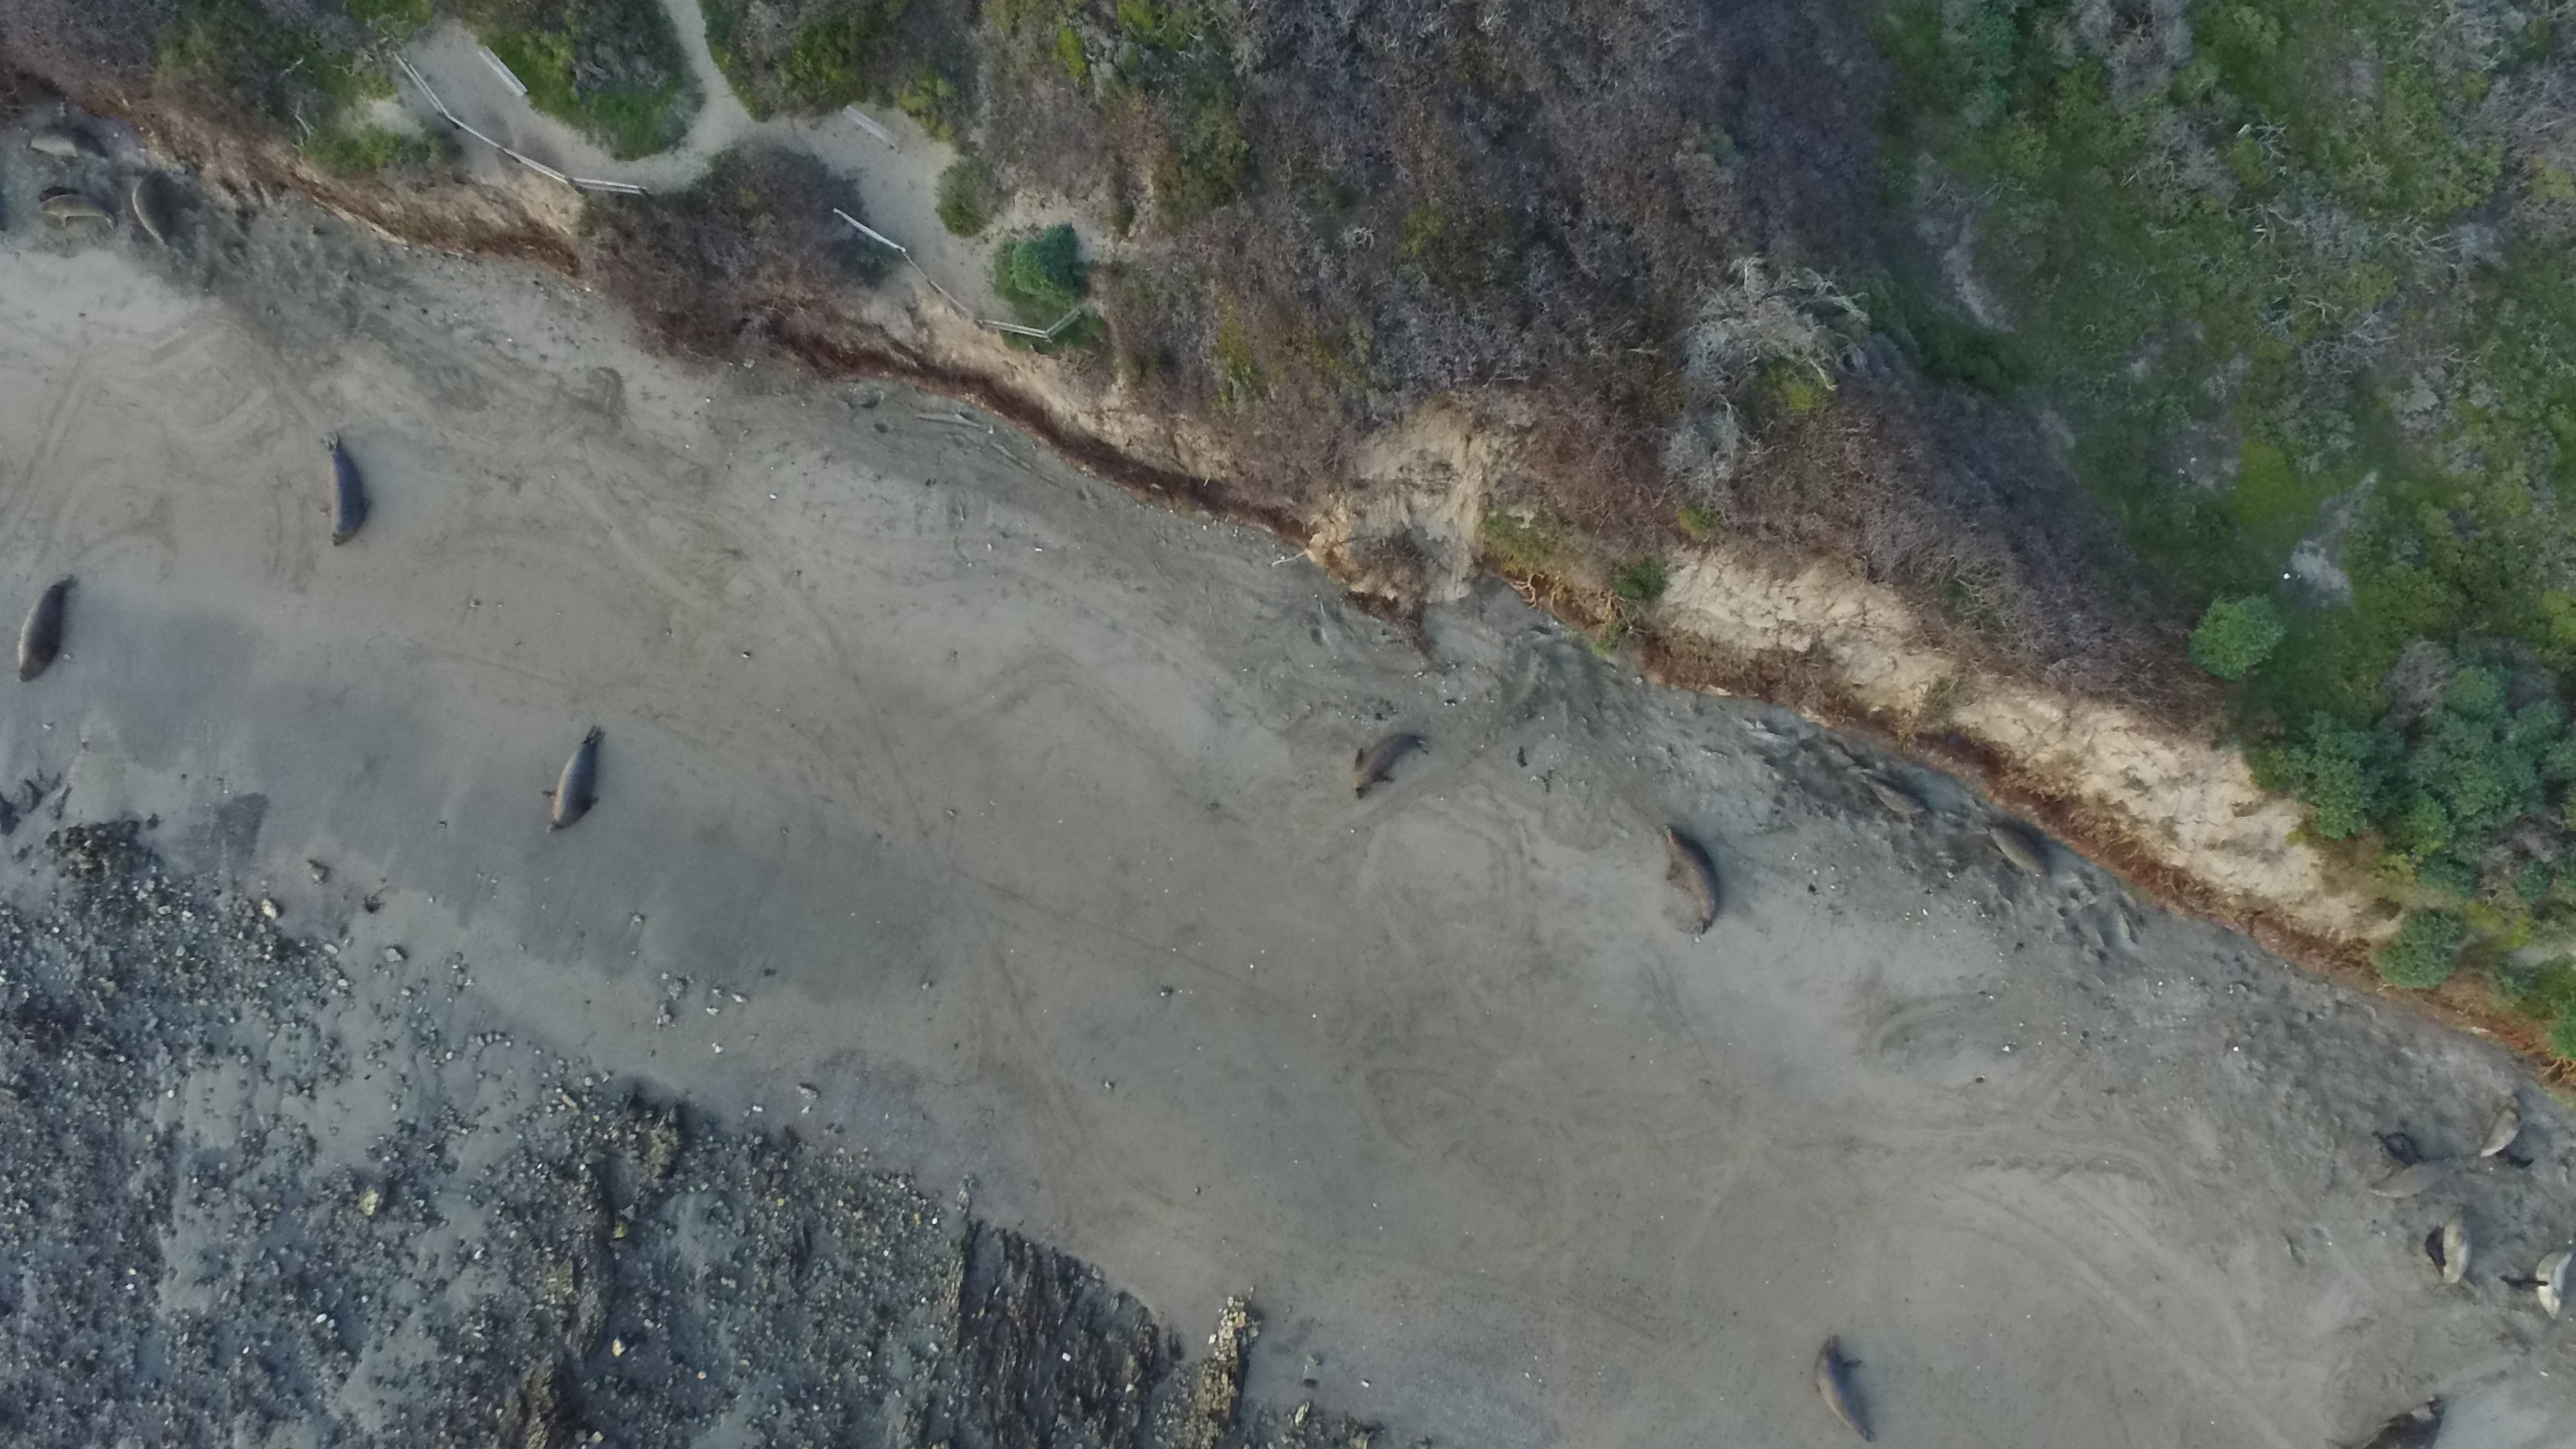adult male: (1808, 1332, 1891, 1444), (541, 724, 609, 839), (2318, 1394, 2452, 1449), (1661, 823, 1723, 941), (16, 575, 81, 683), (317, 428, 375, 547), (1350, 731, 1435, 801), (133, 166, 177, 248)
male juvenile / female juvenile / adult female: (1976, 821, 2054, 881), (2365, 1155, 2466, 1201), (1859, 768, 1937, 823), (2475, 1090, 2526, 1161), (23, 124, 111, 165), (2534, 1242, 2576, 1323), (39, 193, 115, 228)
pup: (2373, 1127, 2429, 1168), (2422, 1224, 2452, 1279), (2498, 1274, 2551, 1297), (2493, 1143, 2535, 1169), (39, 189, 85, 202)
